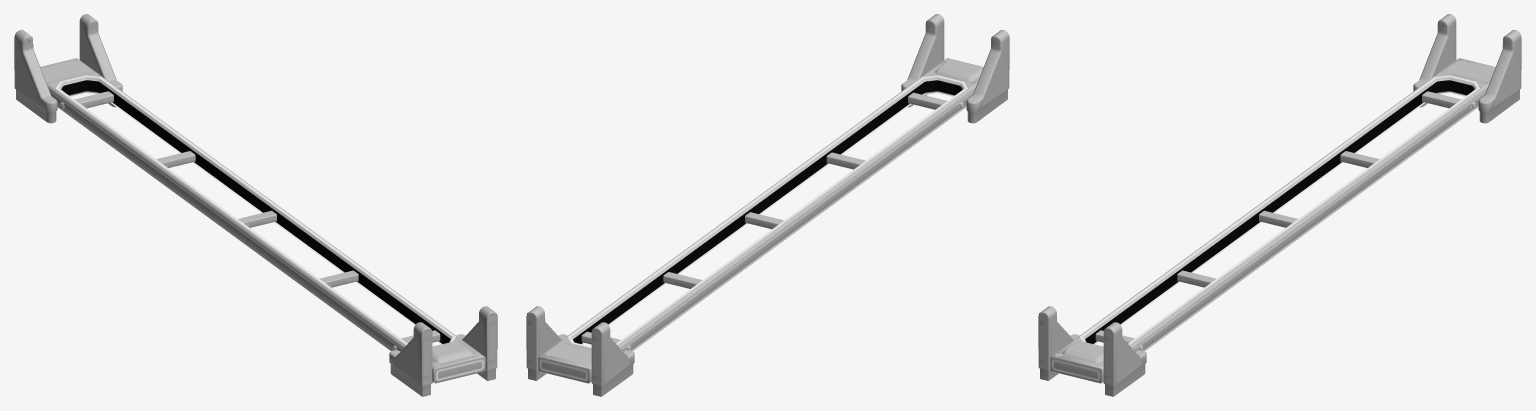
Rendered from SM_Modular_WallSupport_2_Merged.fbx.
3 views of the same model, side by side, from view 1: azimuth 30°, elevation 25°; view 2: azimuth 150°, elevation 25°; view 3: azimuth 330°, elevation 25° (orthographic).
Parts seen in each view (by area): view 1: SM_Modular_WallSupport_2_Merged_LOD0; view 2: SM_Modular_WallSupport_2_Merged_LOD0; view 3: SM_Modular_WallSupport_2_Merged_LOD0.
Boxes of the visible parts, <box> form: SM_Modular_WallSupport_2_Merged_LOD0: <box>14,14,497,396</box>; SM_Modular_WallSupport_2_Merged_LOD0: <box>526,14,1009,396</box>; SM_Modular_WallSupport_2_Merged_LOD0: <box>1038,14,1521,396</box>.
Size of the model in its own units: 54.55 by 500 by 46.62.
